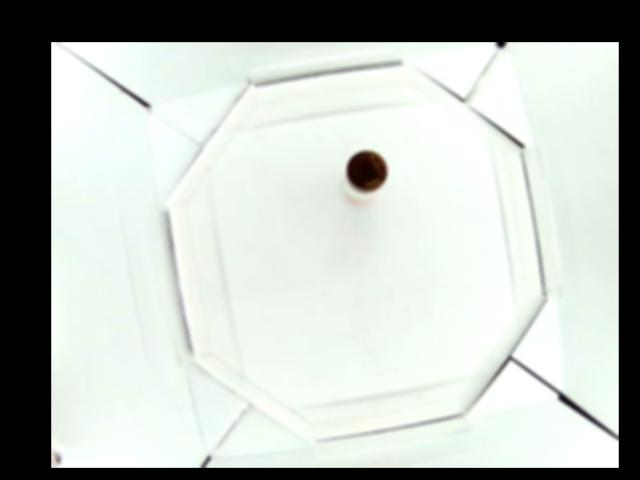Medicine: (342, 149, 389, 204)
